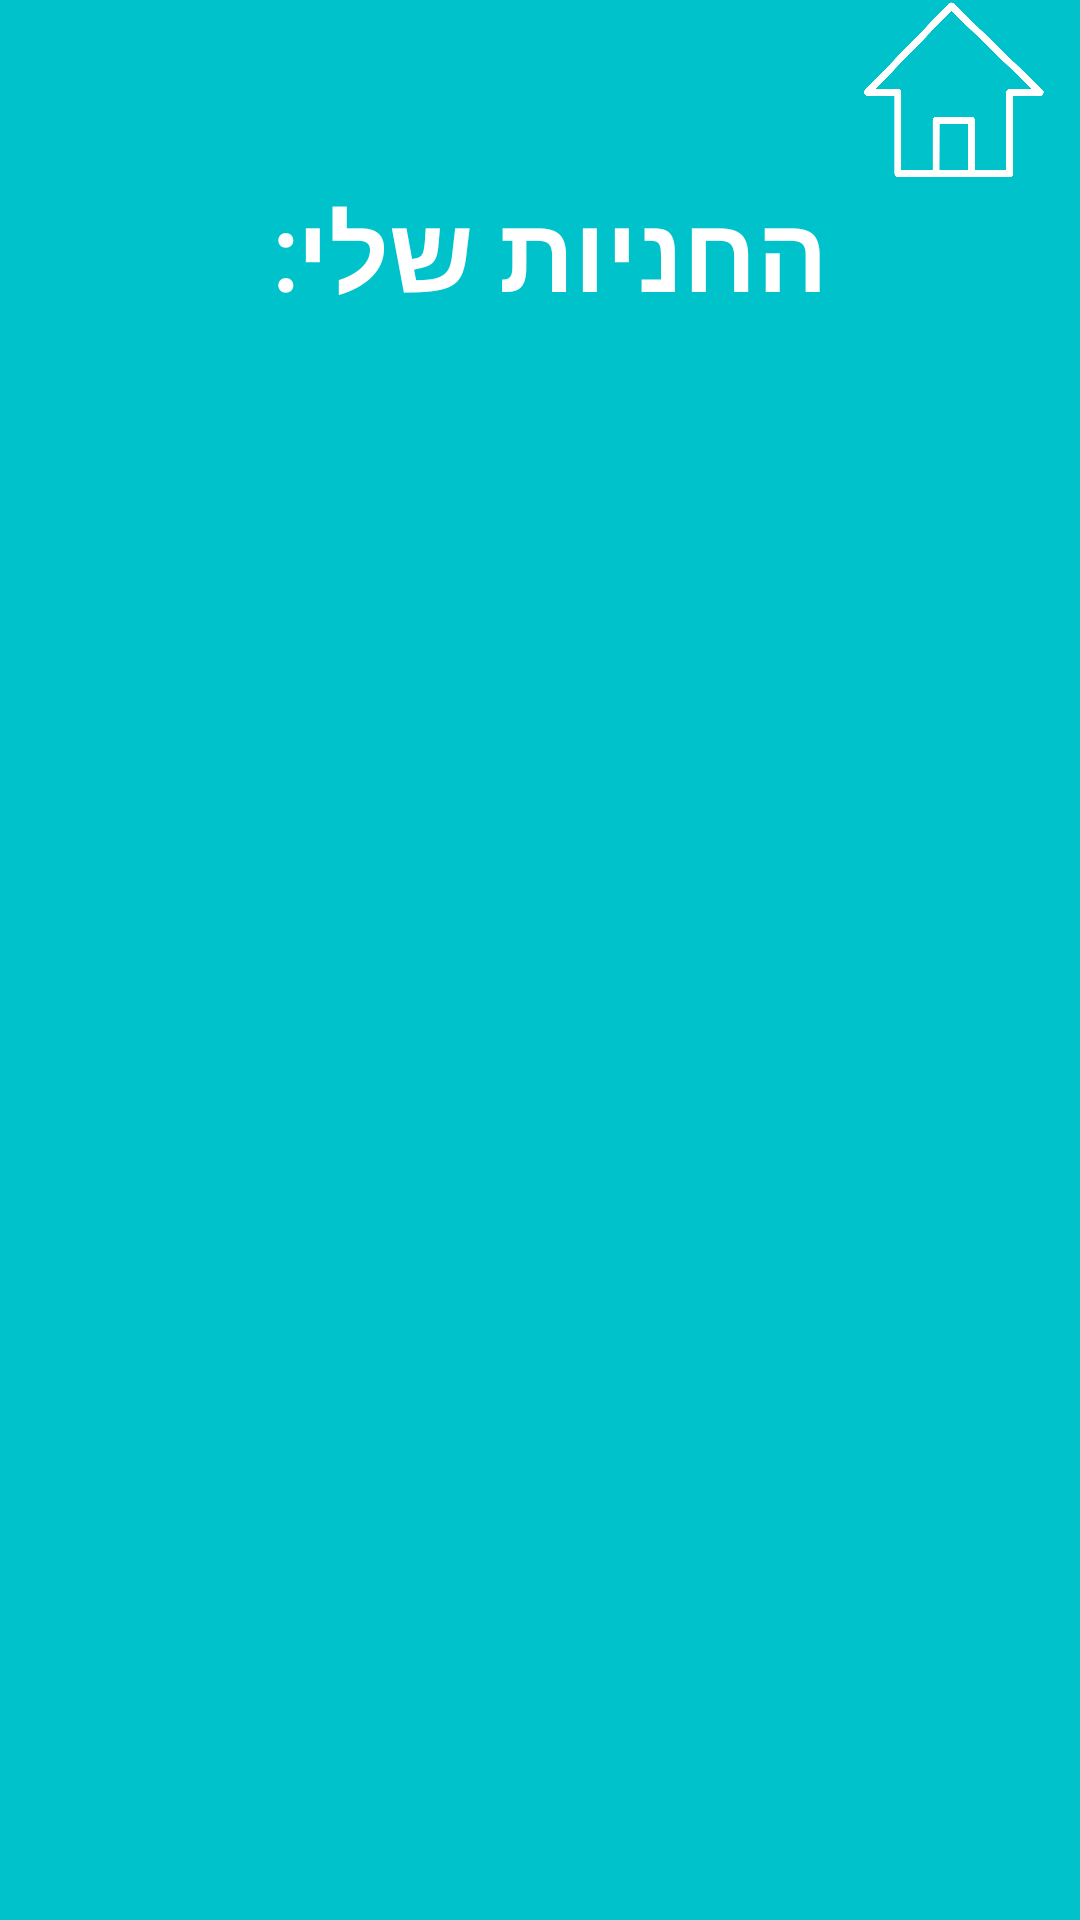

Named icons in this screenshot (1080*1920) and their centers, point (x, y):
home: point (954, 89)
